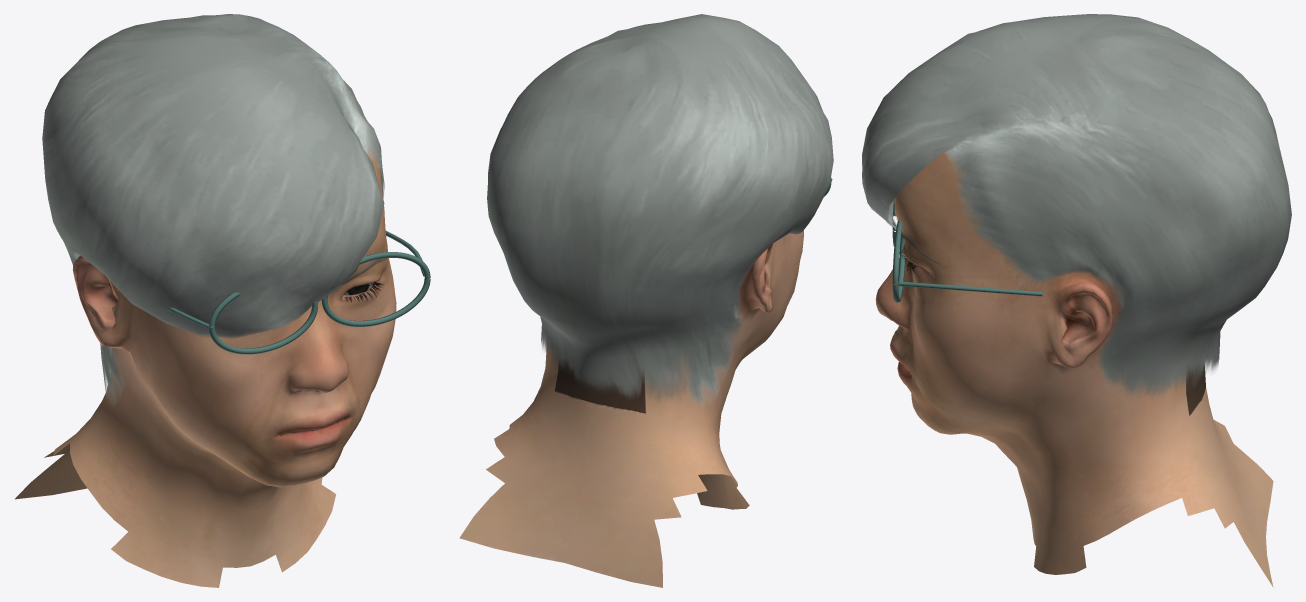
File: patient02.glb
The picture shows the model from 3 angles, left to right: view 1: azimuth 30°, elevation 25°; view 2: azimuth 150°, elevation 25°; view 3: azimuth 270°, elevation 25°; orthographic projection. The views are drawn at different scales.
Visible parts, largest first — view 1: choi_gyosu.short03, choi_gyosu.body, professor.frame.accessory (×2); view 2: choi_gyosu.short03, choi_gyosu.body; view 3: choi_gyosu.short03, choi_gyosu.body, professor.frame.accessory, professor.temple.accessory.
Part boxes in pixels (x1=…): choi_gyosu.short03: x1=42, y1=14, x2=384, y2=405; choi_gyosu.body: x1=15, y1=100, x2=396, y2=587; professor.frame.accessory (×2): x1=209, y1=252, x2=430, y2=354; choi_gyosu.short03: x1=487, y1=14, x2=833, y2=406; choi_gyosu.body: x1=459, y1=230, x2=803, y2=587; choi_gyosu.short03: x1=862, y1=14, x2=1291, y2=398; choi_gyosu.body: x1=875, y1=121, x2=1273, y2=587; professor.frame.accessory: x1=892, y1=220, x2=905, y2=302; professor.temple.accessory: x1=899, y1=281, x2=1042, y2=296.
Bounding box in the file's own units: 0.1802 × 0.3051 × 0.2317.
Materials: 11 (7 with a texture image).
